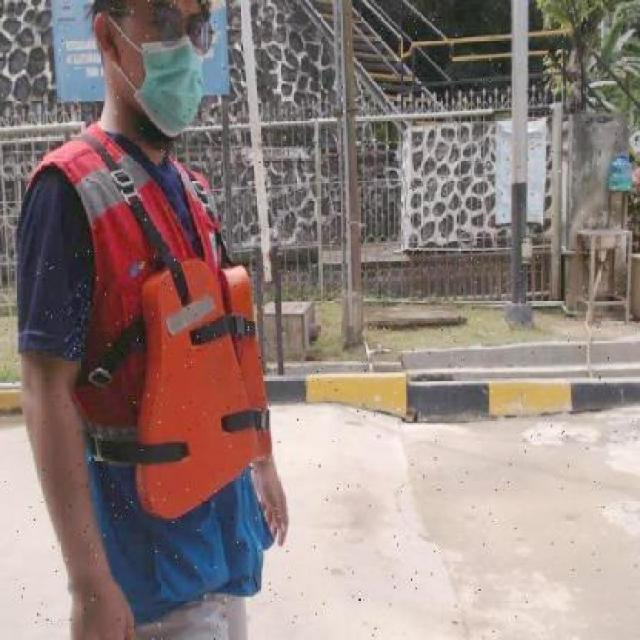Mask: (125, 37, 210, 131)
Vest: (135, 238, 279, 520)
